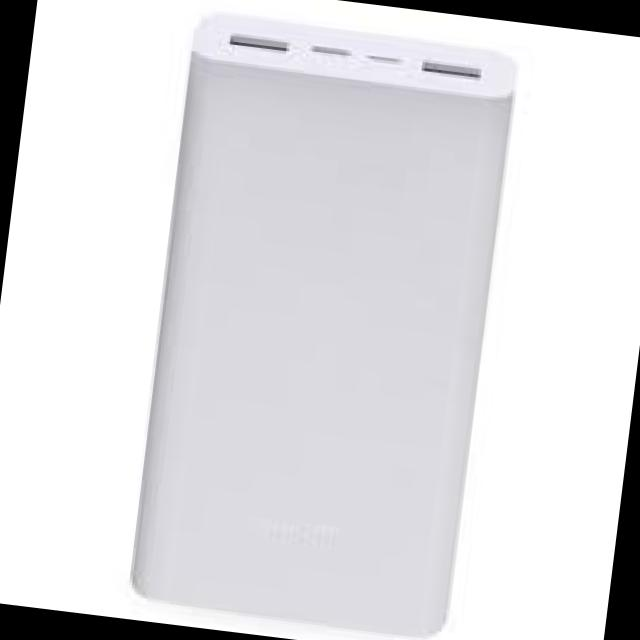portable-charger: (123, 9, 524, 640)
